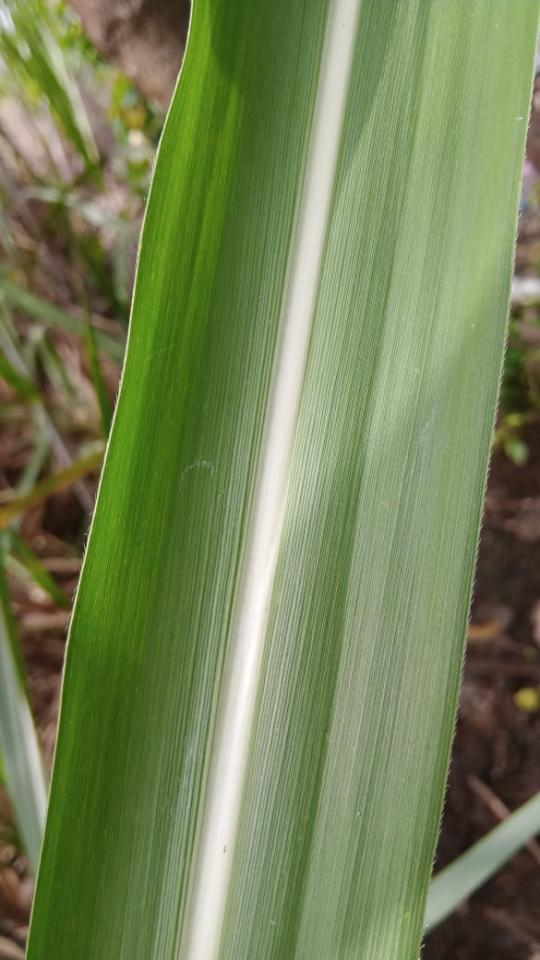Healthy: (26, 3, 539, 959)
